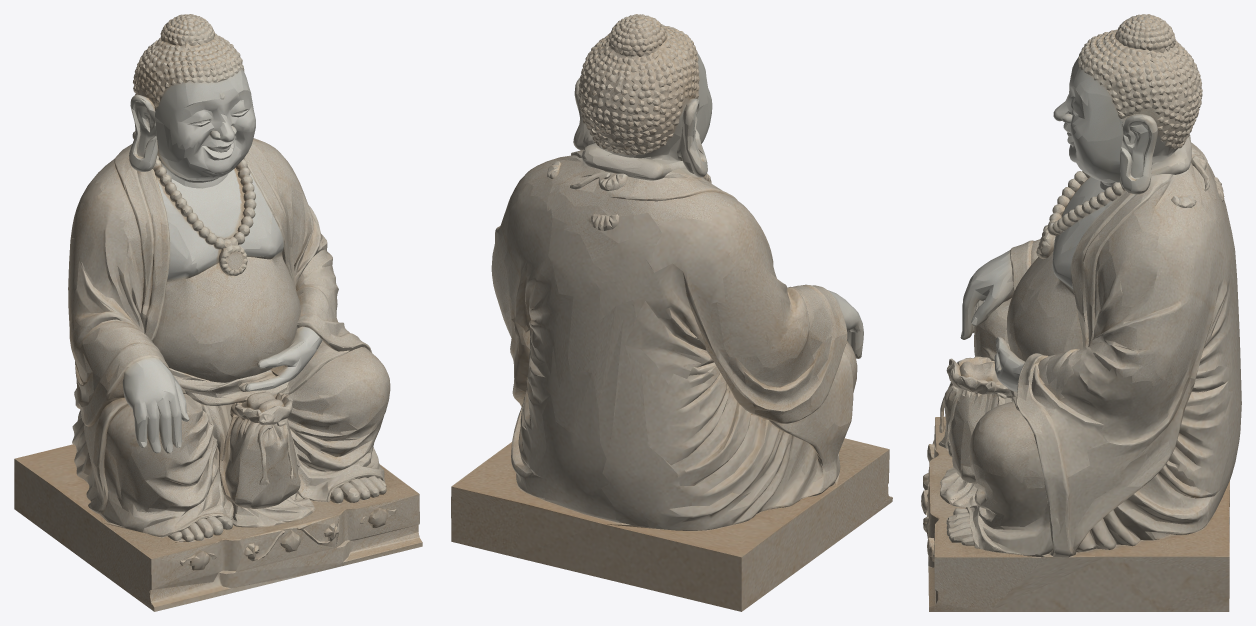
Rendered from di-lac.glb.
3 renders of one model, left to right at view 1: azimuth 30°, elevation 25°; view 2: azimuth 150°, elevation 25°; view 3: azimuth 270°, elevation 25°, orthographic. The views are drawn at different scales.
Size of the model in its own units: 1.17 by 1.9 by 1.05.
1 material, 1 textured.
